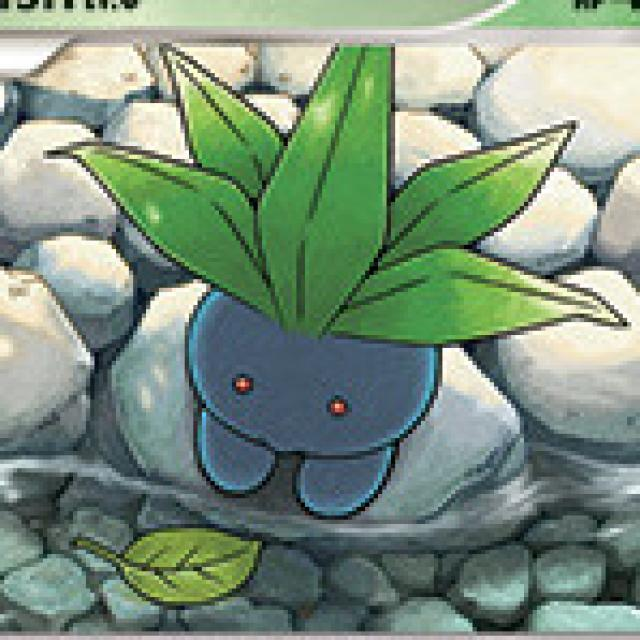Oddish: (112, 110, 529, 505)
